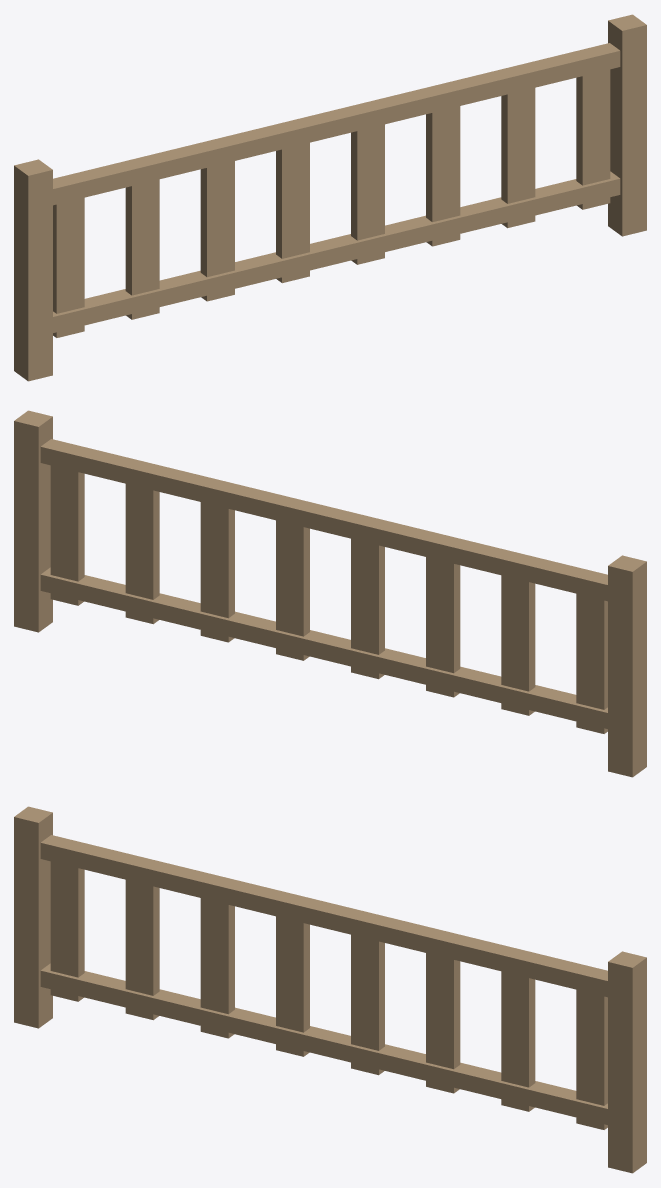
3 renders of one model, top to bottom at view 1: azimuth 30°, elevation 25°; view 2: azimuth 150°, elevation 25°; view 3: azimuth 330°, elevation 25°, orthographic.
Bounding box in the file's own units: 4 × 1.27 × 0.16.
